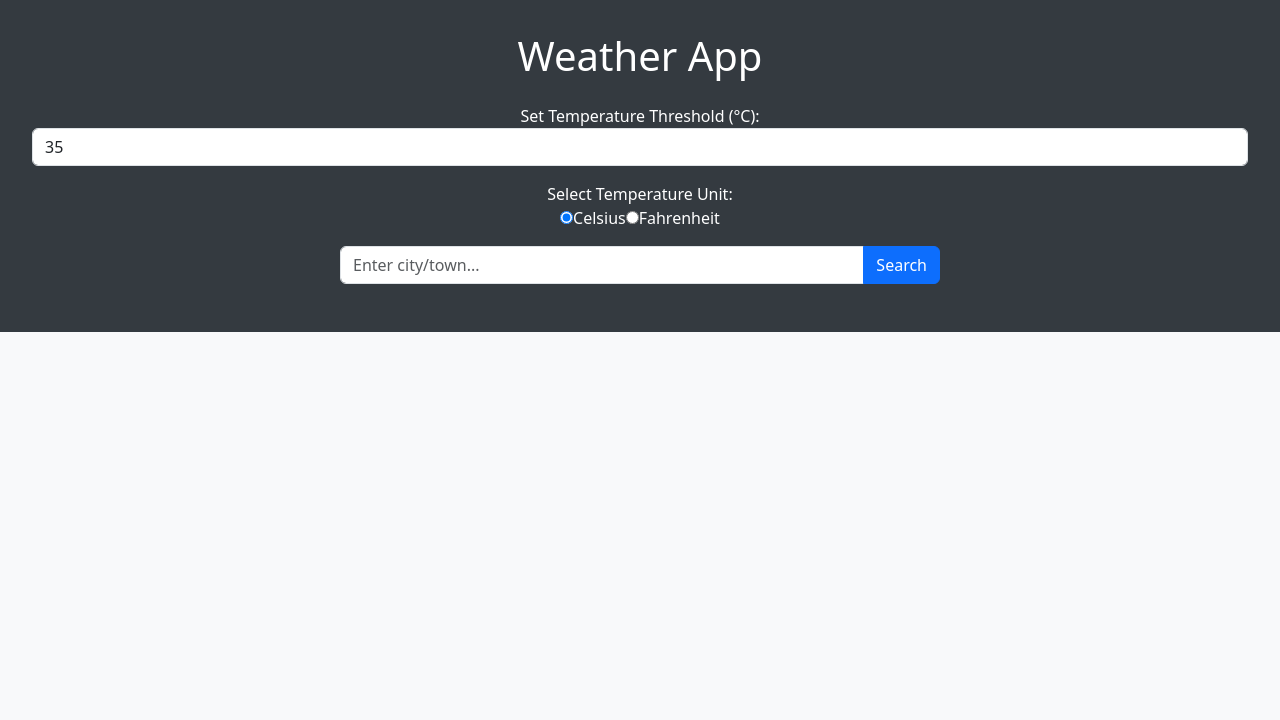
it: displays weather information after searching for a city
# Simulate user input
Type "Test City" into the field with placeholder "Enter city/town..." at [602, 265], box [340,246,864,284]
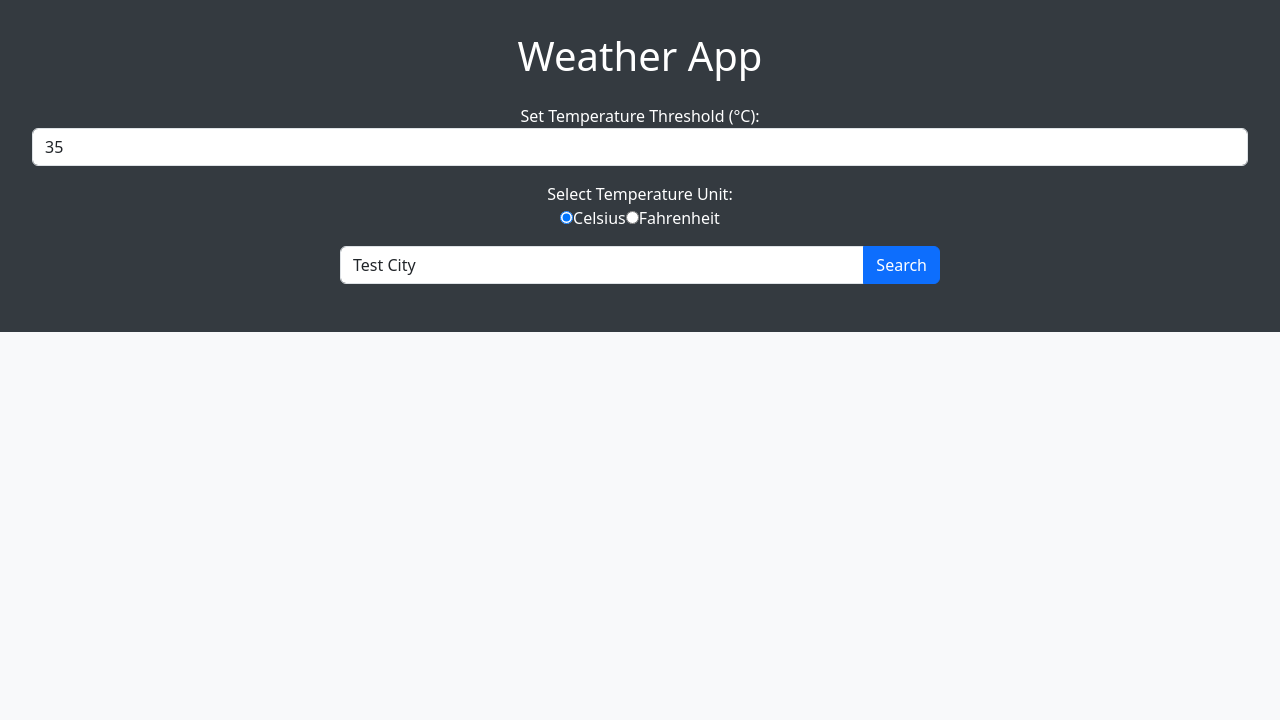
Click the button "Search" at [902, 265], box [863,246,940,284]
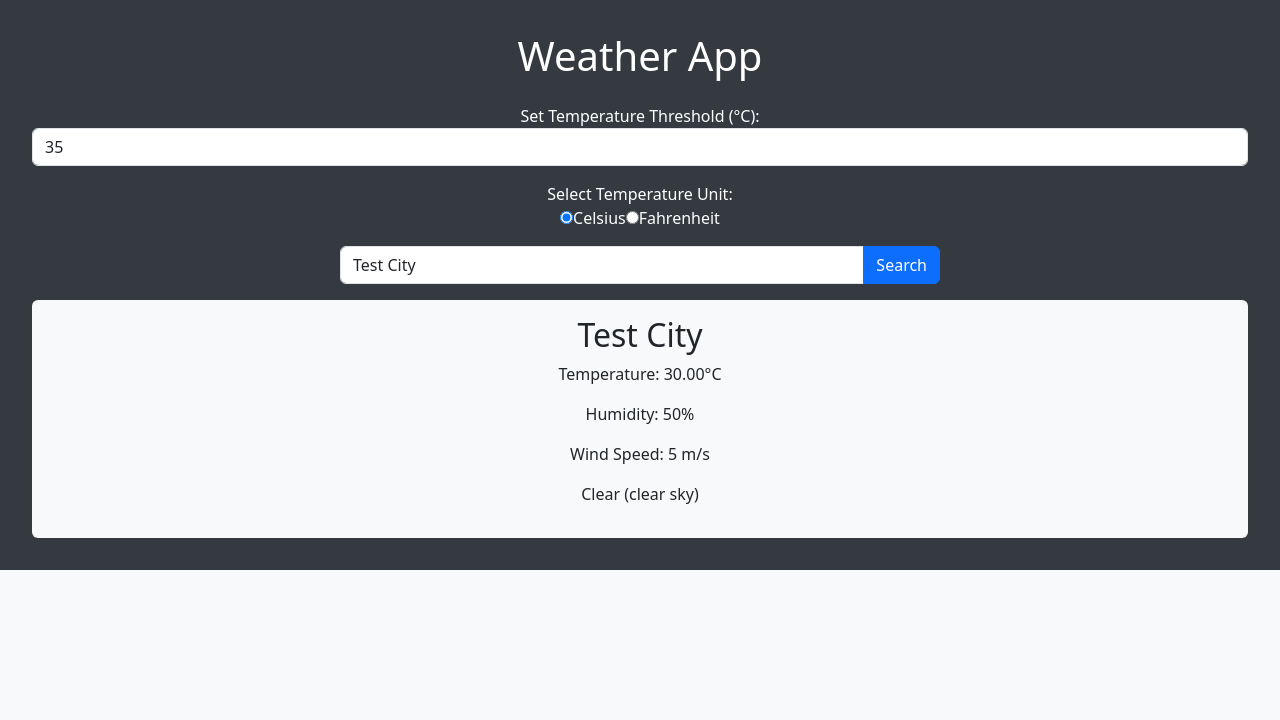
Check: the text "Temperature: 30.00°C" is shown, box [558,363,722,385]
Check: the text "Humidity: 50%" is shown, box [586,403,694,425]
Check: the text "Clear (clear sky)" is shown, box [581,483,699,505]
